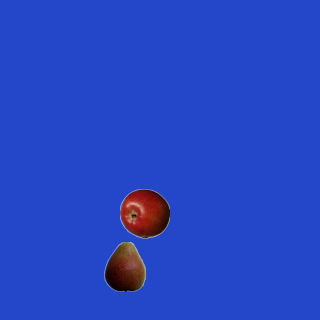Apple Braeburn: (119, 188, 169, 238)
Pear Forelle: (99, 241, 149, 291)
